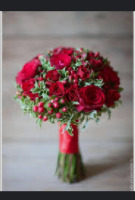RedRose: (77, 82, 105, 110), (16, 60, 39, 83), (97, 65, 122, 86), (101, 84, 120, 110), (52, 81, 68, 100), (50, 53, 70, 68), (65, 85, 80, 102), (57, 41, 74, 56), (87, 55, 102, 71), (23, 78, 35, 96), (45, 69, 59, 81)
